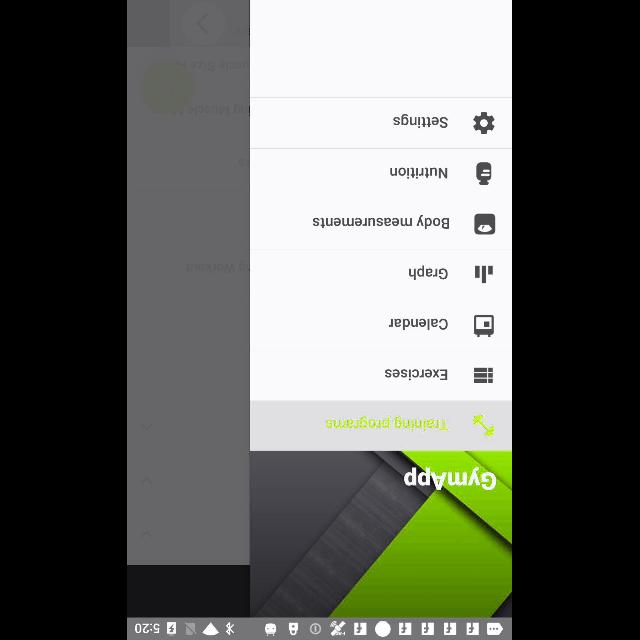icon: (474, 315, 496, 337), (474, 112, 496, 134), (475, 265, 493, 283), (474, 367, 494, 383)
image: (474, 414, 496, 438), (476, 213, 496, 234), (477, 162, 493, 185)
panel: (252, 2, 512, 618)
text: (314, 214, 451, 230), (404, 466, 498, 489), (326, 416, 449, 430), (394, 114, 448, 128), (386, 369, 448, 381), (389, 318, 448, 330), (391, 167, 449, 179), (409, 266, 448, 280)
uppertaskbar: (128, 617, 512, 639)
